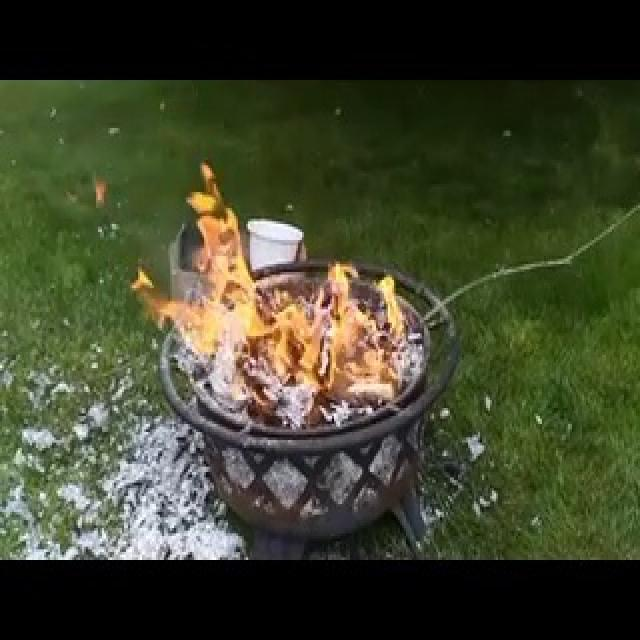fire: (155, 150, 419, 422)
